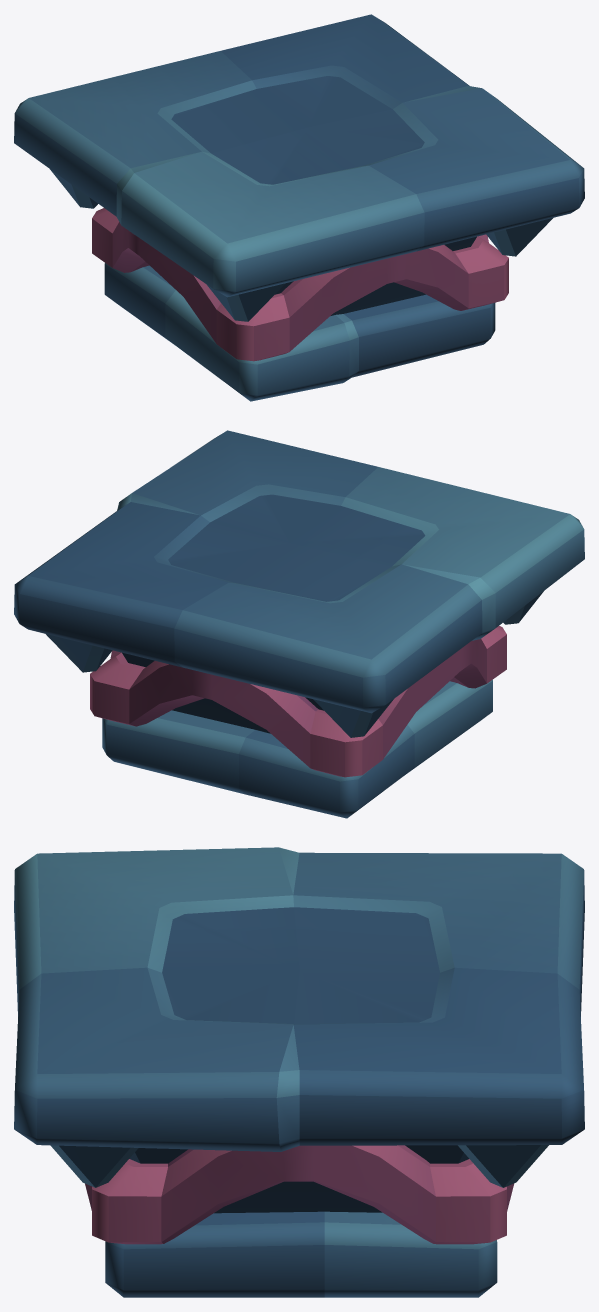
Rendered from pillar_top.fbx.
The picture shows the model from 3 angles, top to bottom: view 1: azimuth 30°, elevation 25°; view 2: azimuth 150°, elevation 25°; view 3: azimuth 270°, elevation 25°; orthographic projection. The views are drawn at different scales.
Parts seen in each view (by area): view 1: pillar_top; view 2: pillar_top; view 3: pillar_top.
Part boxes in pixels (box(x1,y1,x2,y2)): pillar_top: box(14, 14, 584, 401); pillar_top: box(14, 430, 584, 818); pillar_top: box(14, 847, 584, 1297).
Size of the model in its own units: 211 by 109 by 210.
